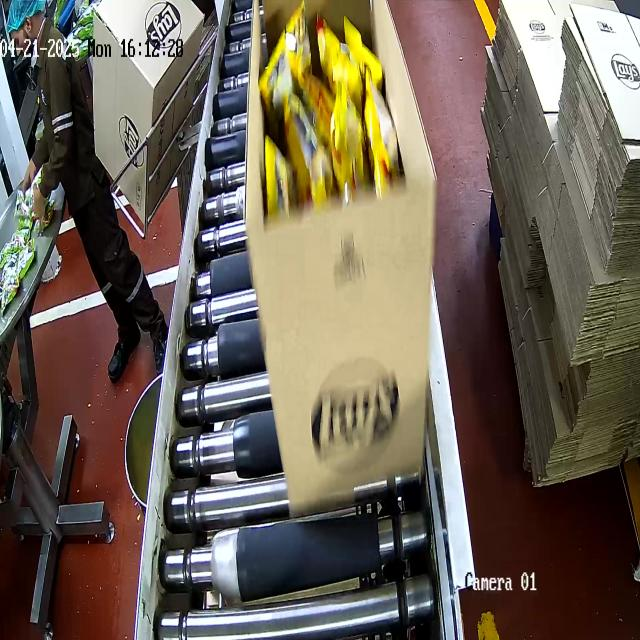SALTED: (260, 24, 400, 196)
